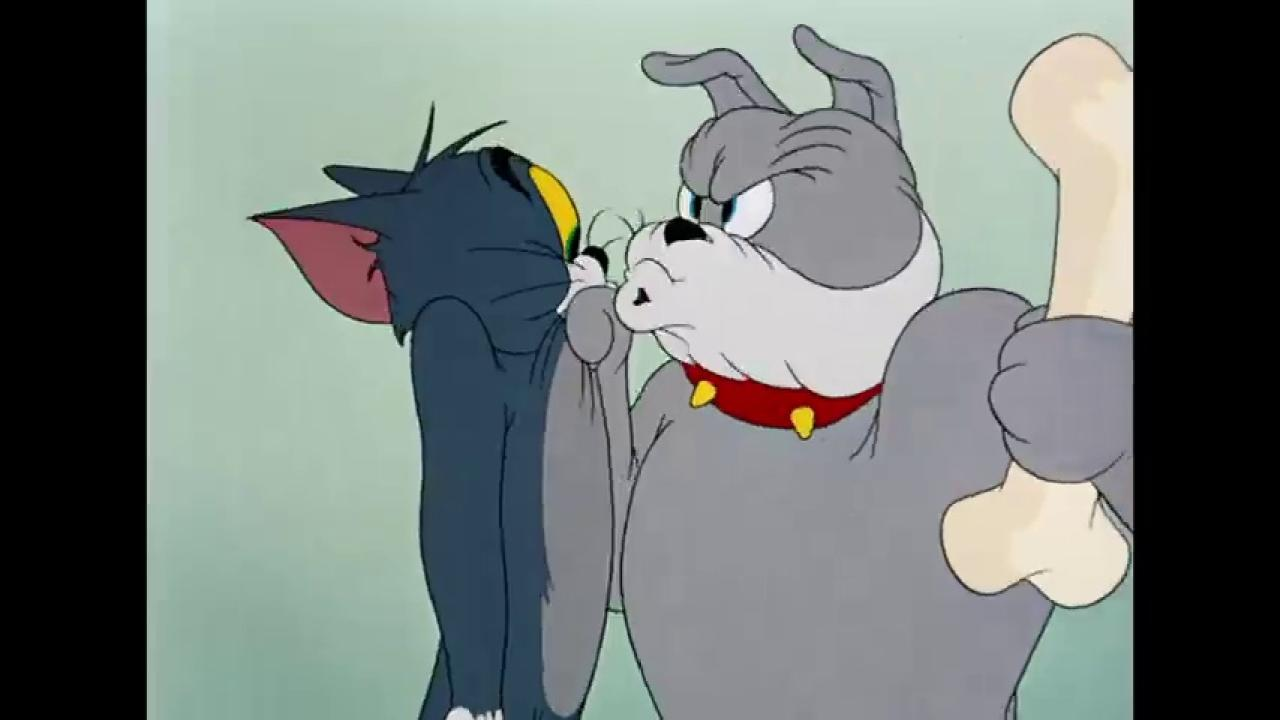Tom: (244, 142, 619, 720)
